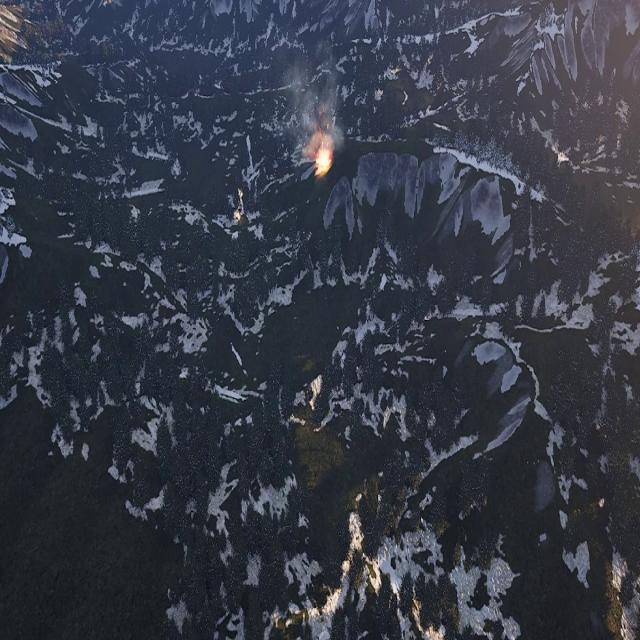fire: (317, 146, 334, 173)
smoke: (279, 39, 349, 155)
